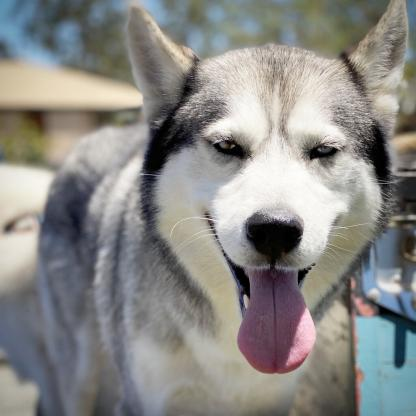dog: (29, 7, 416, 416)
